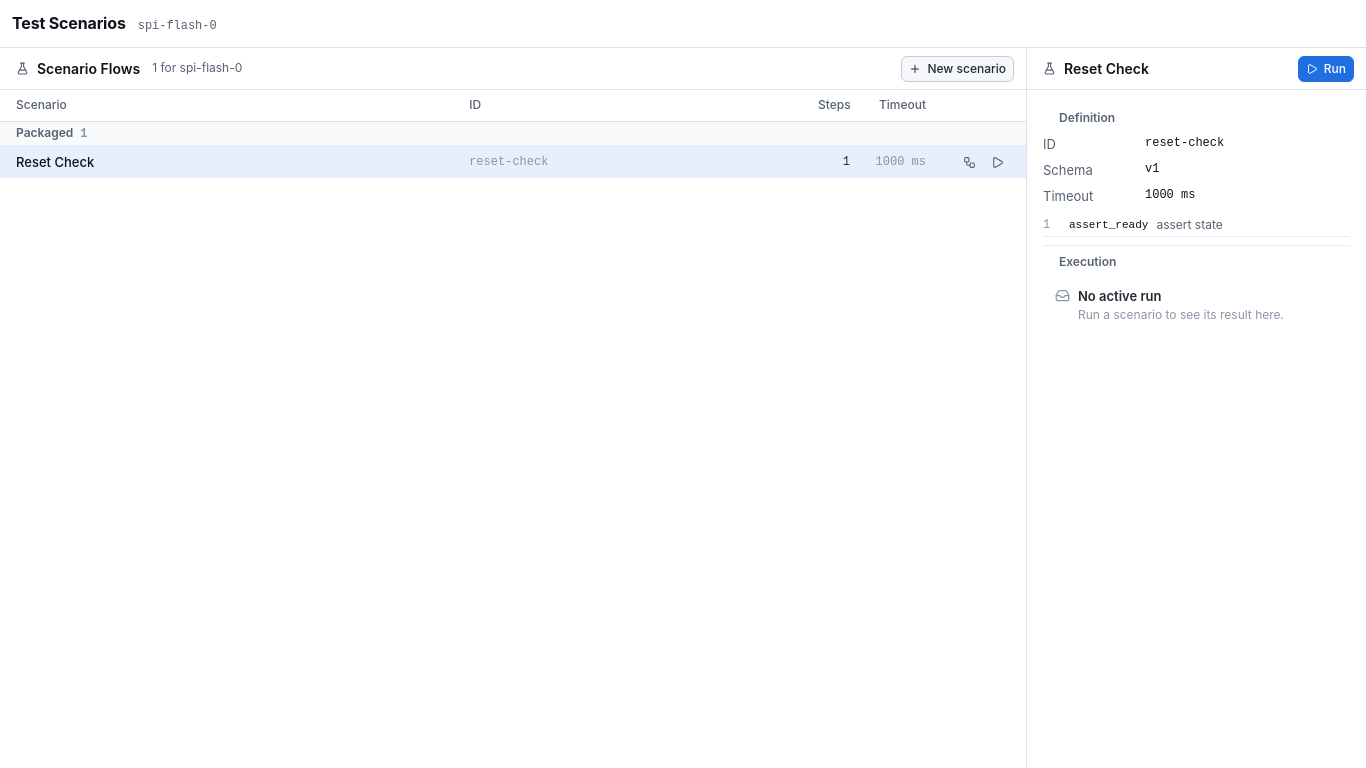
Test: scenario run lifecycle › starts a run, polls status, and renders step results
The image size is (1366, 768).
What coordinates should you click on to do the following:
click the button named "Run Reset Check"
I would click on:
 (997, 162)
Its box is [984, 149, 1010, 175].
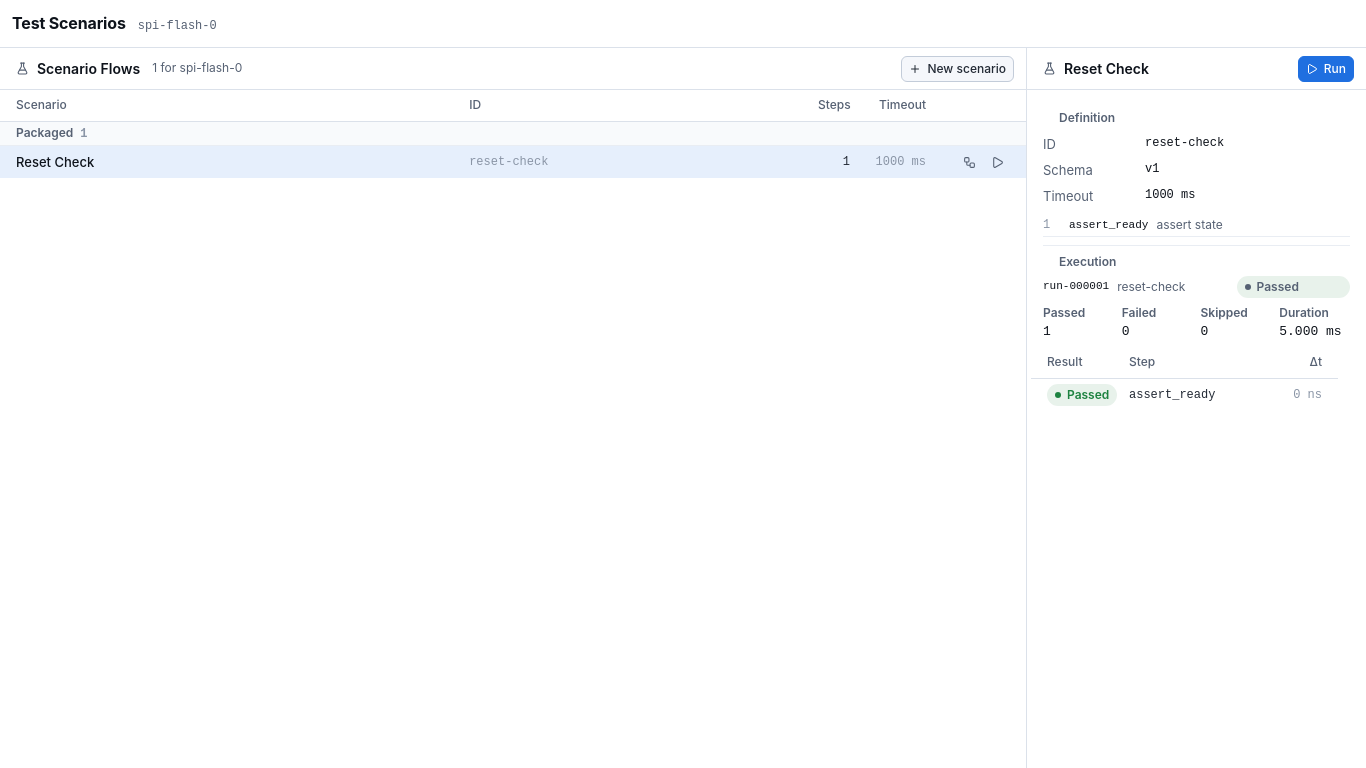
expect the text "run-000001" is shown: met, box [1043, 279, 1109, 295]
